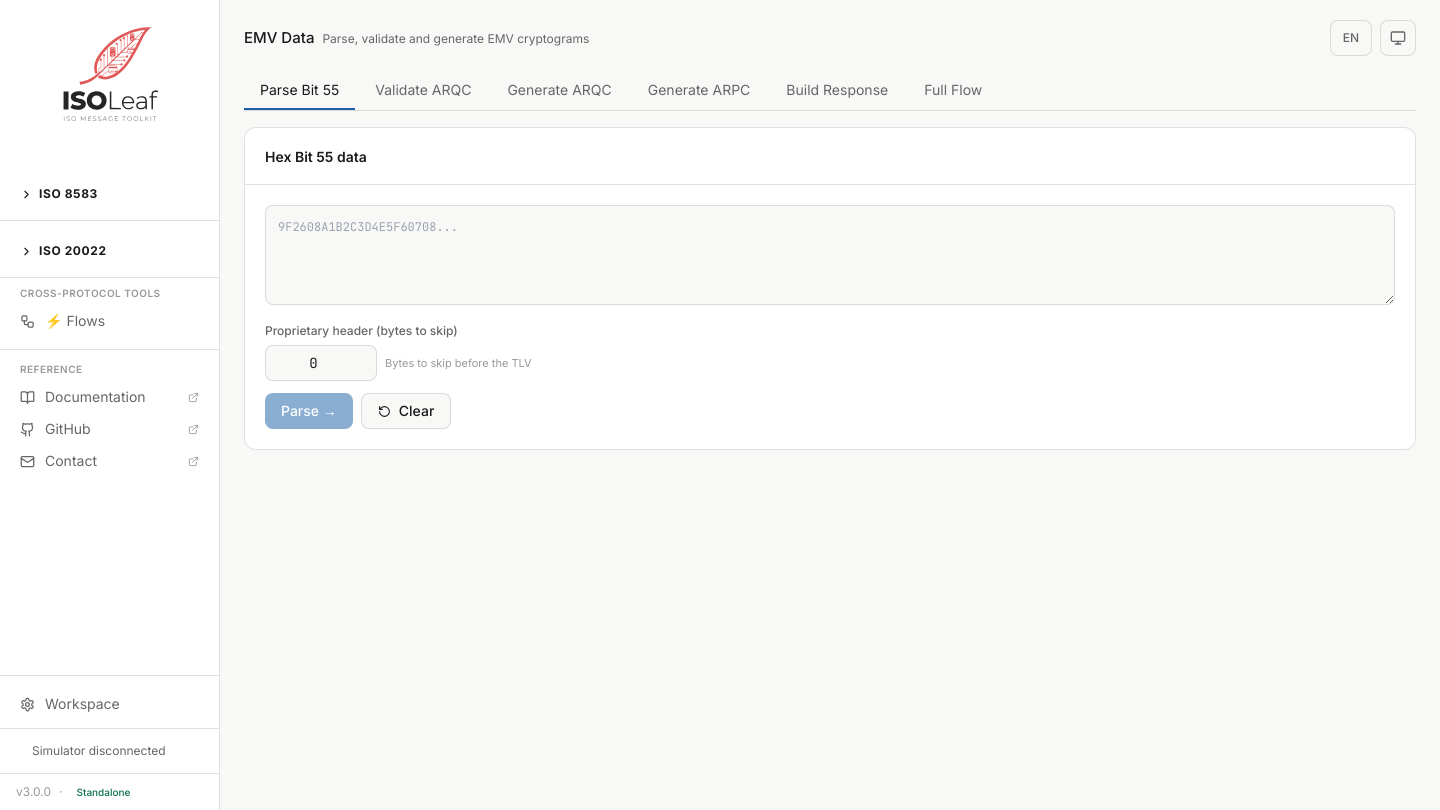
Test case: EMV page › clicking 'Full Flow' renders the 5 required input fields
Click the tab "Full Flow".
click(953, 91)  # box x1=908 y1=72 x2=998 y2=110
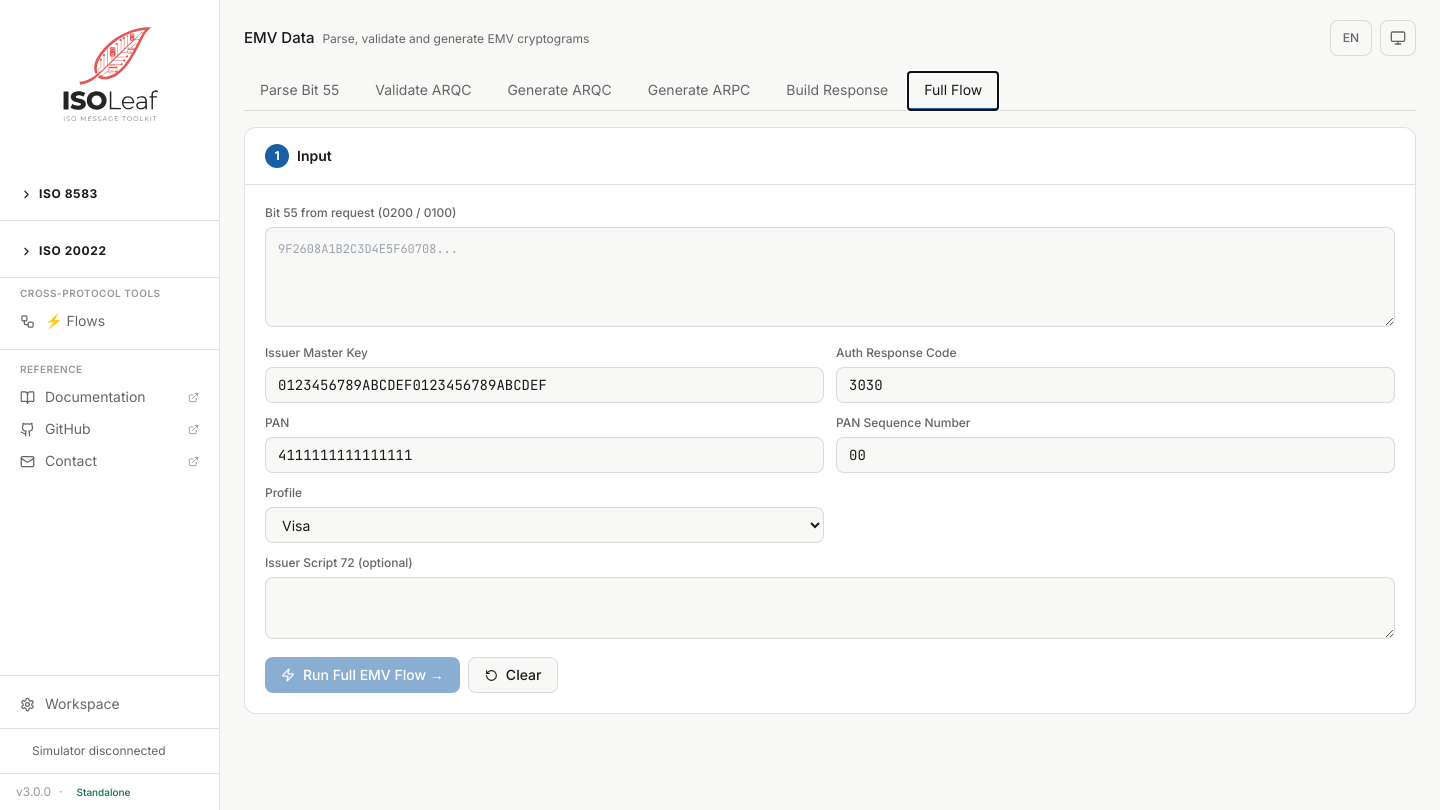
Now the text "Bit 55 from request (0200 / 0100)" is shown, box x1=265 y1=205 x2=456 y2=220
Now the text "Issuer Master Key" is shown, box x1=265 y1=345 x2=368 y2=360
Now the text "Auth Response Code" is shown, box x1=836 y1=345 x2=956 y2=360
